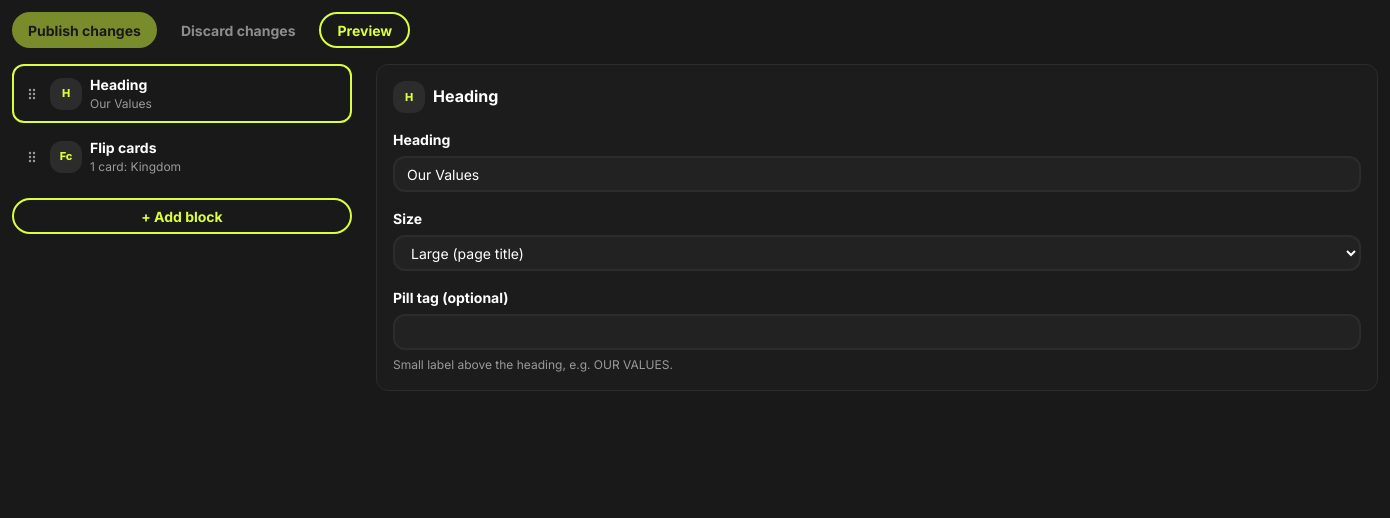
Test: BlockEditor › shows errors next to the field and never saves invalid content
Clear the field labelled "Heading" at (877, 174), box [393, 156, 1361, 192]
Wait 3000 ms
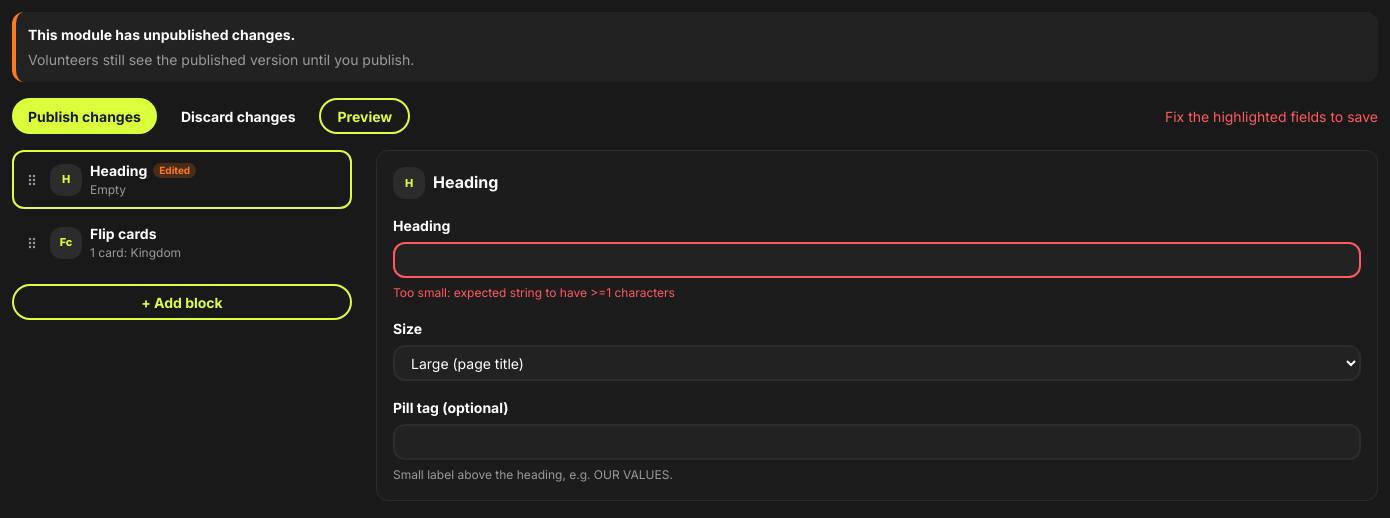
Expected: the text "Fix the highlighted fields to save" is shown, [1165, 106, 1378, 126]
